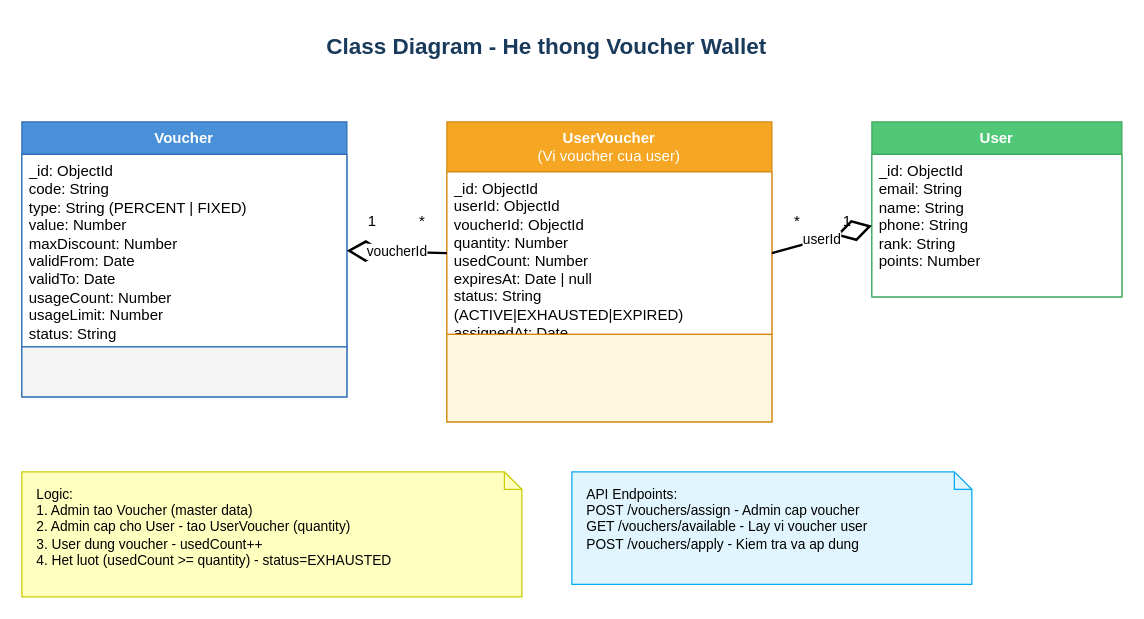
Image size: 1144x619. Some labels were removed from this diagram. The centre of each missing label's shape, as x and y in pixels:
"+canUse(): Boolean +use(): void +remainingUses(): Number" belongs at [609,377].
"+isValid(): Boolean +findByCode(code): Voucher" belongs at [184,371].
